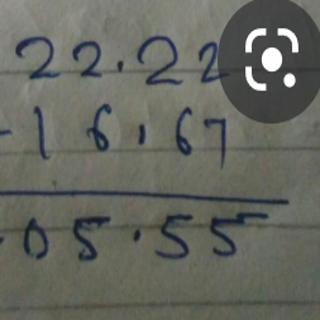.: (129, 122, 153, 148), (129, 226, 147, 245), (114, 58, 127, 74)
0: (24, 219, 50, 258)
1: (34, 105, 48, 156)
2: (136, 34, 187, 86), (16, 34, 64, 83), (72, 38, 103, 78), (197, 42, 225, 82)
5: (72, 214, 109, 261), (158, 212, 192, 263), (210, 215, 242, 259)
6: (90, 103, 113, 150), (175, 105, 194, 158)
7: (205, 116, 227, 165)
